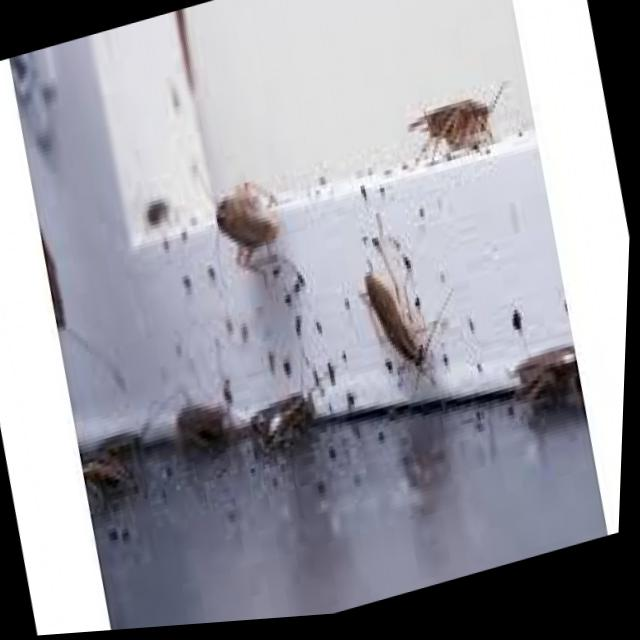Cockroach: (328, 198, 466, 445), (187, 143, 304, 300), (403, 65, 522, 203), (242, 356, 343, 495), (501, 330, 592, 434)
